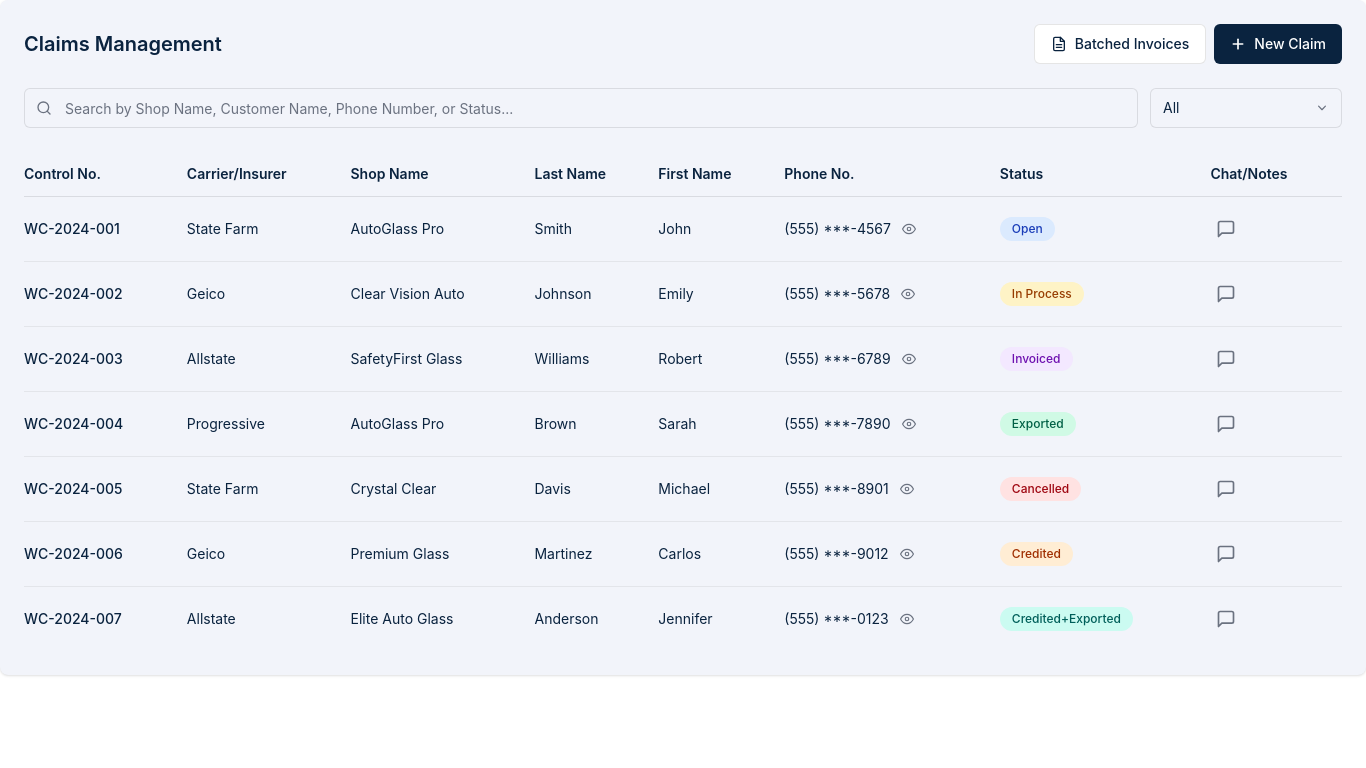
ClaimsListPage › shows empty state when no claims match
Type "NONEXISTENT_QUERY_XYZ" into the search field with placeholder "Search by Shop Name" at (581, 108), box [24,88,1138,128]
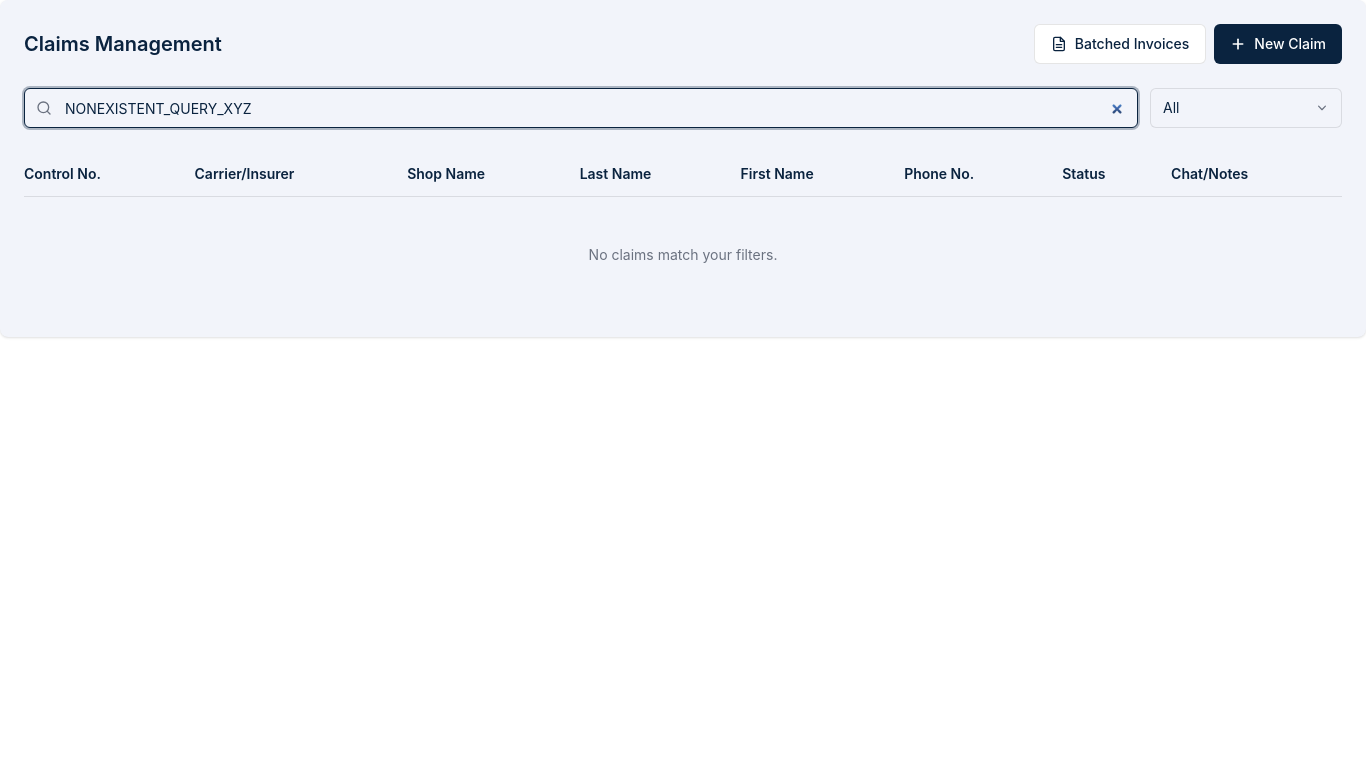
Now the text "No claims match your filters." is shown, box [24,196,1342,313]
